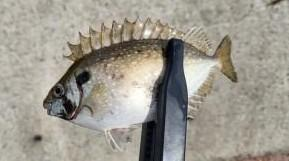fish: (43, 19, 236, 150)
